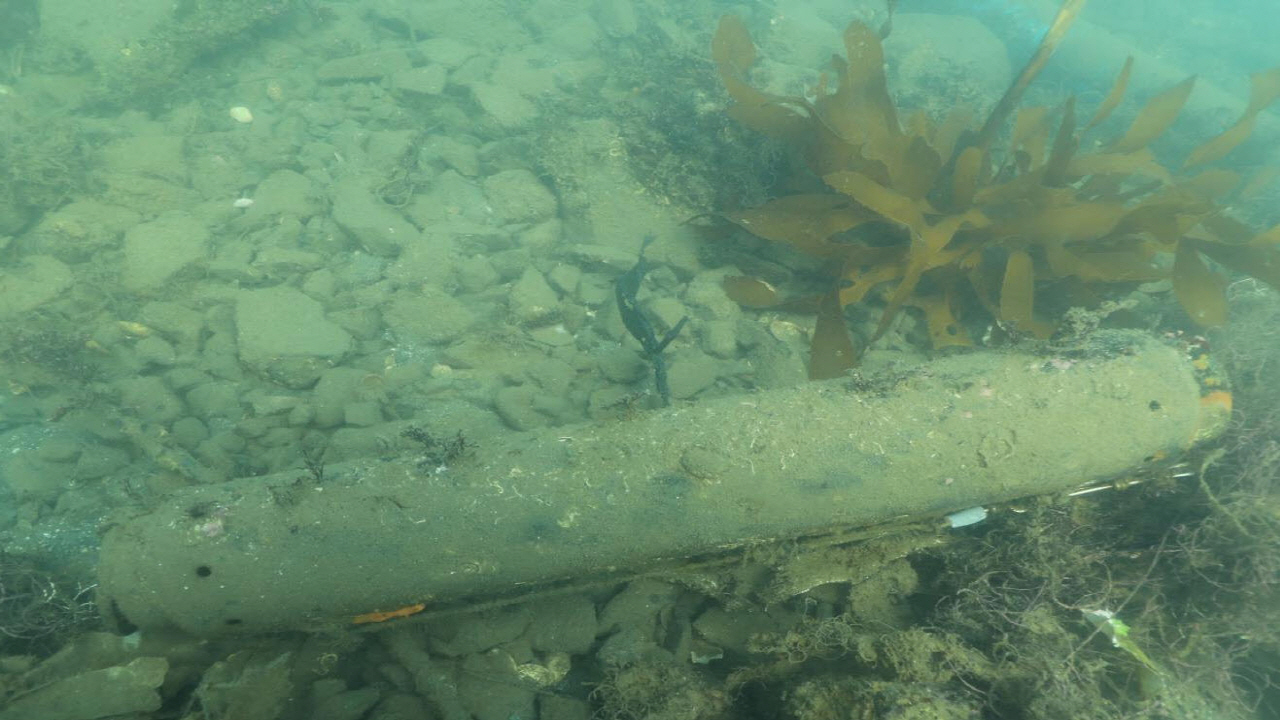eel fish trap: (96, 328, 1237, 639)
